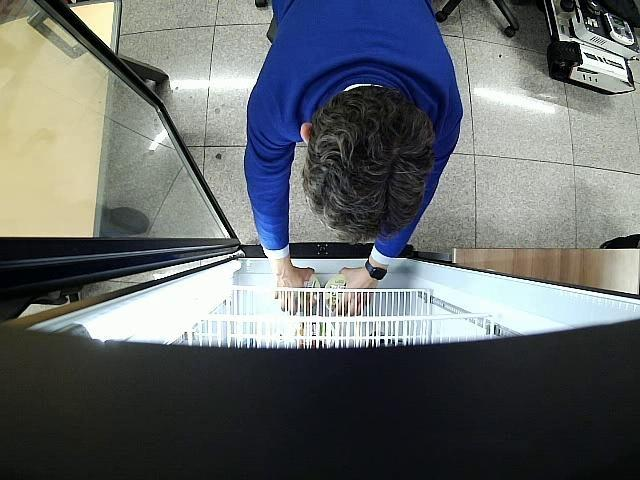03_chapagetti_L: (296, 274, 321, 311), (325, 274, 347, 312)
